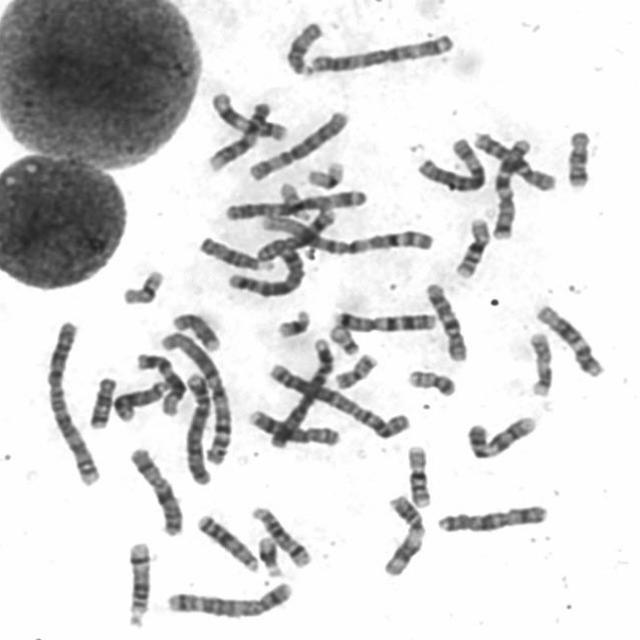A1: (155, 326, 234, 467), (254, 208, 438, 258)
A2: (261, 358, 412, 440), (39, 314, 104, 488)
A3: (303, 26, 458, 76), (219, 184, 370, 222)
B4: (265, 334, 337, 450), (179, 367, 215, 487)
B5: (160, 576, 295, 620), (220, 242, 307, 299)
C10: (467, 125, 560, 193), (419, 277, 470, 363)
C11: (206, 86, 290, 142), (376, 488, 426, 578)
C12: (529, 298, 606, 379), (129, 347, 187, 417)
C6: (243, 104, 352, 182), (410, 131, 487, 194)
C7: (486, 131, 534, 241), (328, 304, 439, 334)
C8: (251, 204, 339, 268), (241, 404, 344, 448)
C9: (202, 96, 273, 172), (462, 409, 540, 462)
D13: (191, 508, 261, 574), (107, 374, 172, 424)
D14: (245, 501, 314, 570), (120, 536, 154, 630)
D15: (193, 231, 265, 272), (280, 16, 326, 78)
E16: (448, 212, 492, 280), (401, 438, 435, 508)
E17: (166, 307, 222, 353), (522, 325, 556, 398)
E18: (82, 371, 119, 430), (560, 124, 592, 190)
F19: (116, 264, 166, 307), (300, 155, 346, 191)
F20: (328, 347, 379, 390), (401, 363, 458, 398)
G21: (252, 530, 284, 578), (272, 304, 312, 339)
G22: (276, 177, 314, 222), (324, 318, 362, 357)
X: (122, 441, 185, 538), (431, 498, 550, 535)
